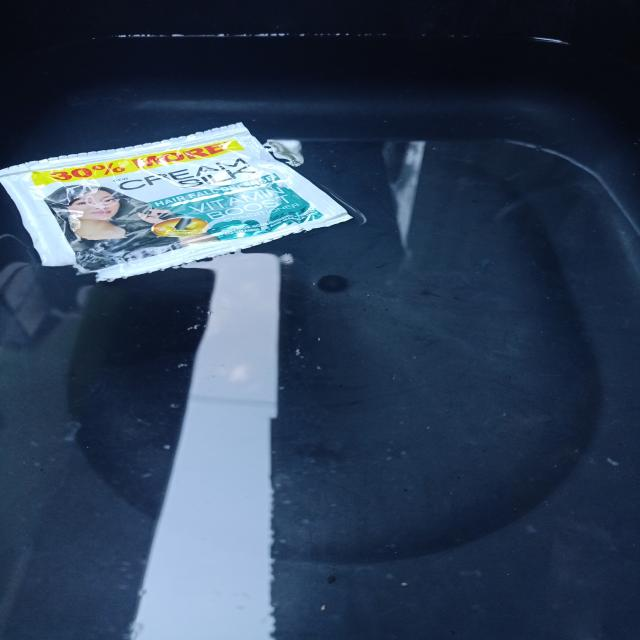Plastic Wrapper: (0, 123, 351, 281)
